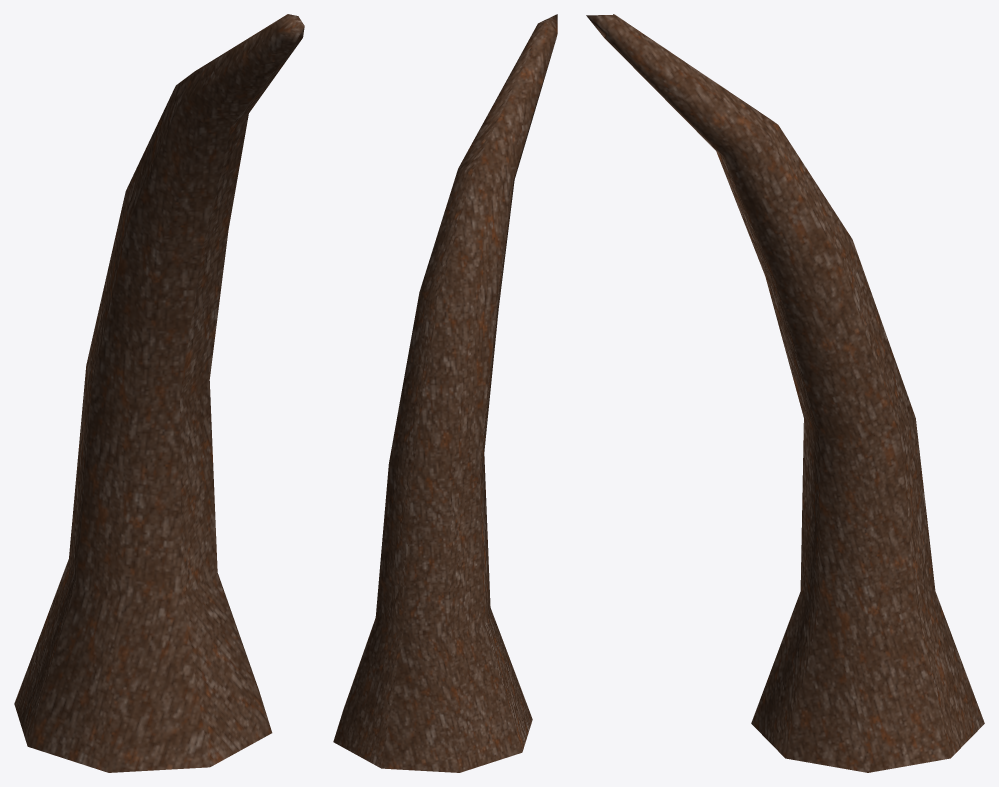
Rendered from dead tree.fbx.
The picture shows the model from 3 angles, left to right: view 1: azimuth 30°, elevation 25°; view 2: azimuth 150°, elevation 25°; view 3: azimuth 270°, elevation 25°; orthographic projection. The views are drawn at different scales.
Parts seen in each view (by area): view 1: Trunk.001; view 2: Trunk.001; view 3: Trunk.001.
Part boxes in pixels (x1,y1,x2,y2): Trunk.001: [14, 14, 304, 772]; Trunk.001: [333, 14, 557, 772]; Trunk.001: [586, 14, 984, 772].
Size of the model in its own units: 200 by 669 by 341.
